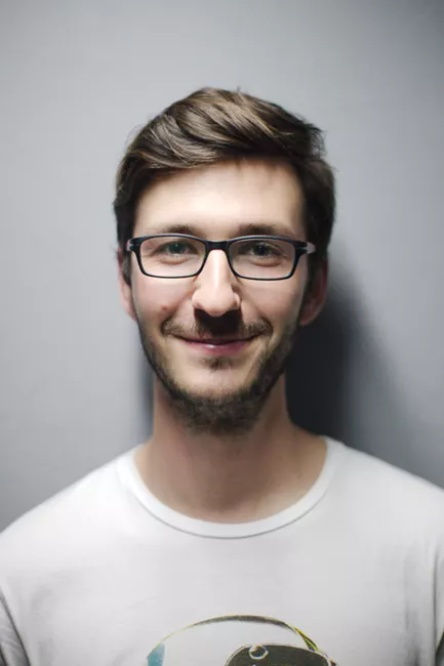face: (132, 157, 309, 418)
